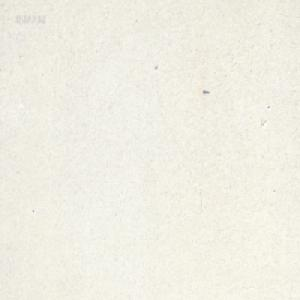Nail: (202, 89, 209, 94)
